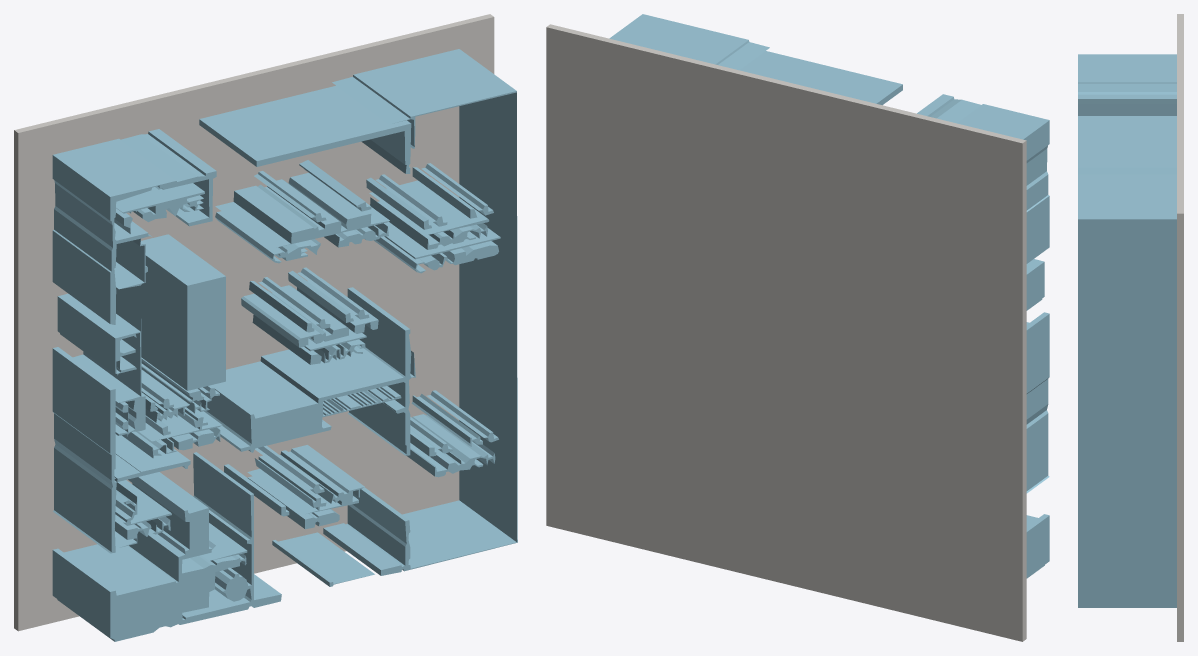
3 views of the same model, side by side, from view 1: azimuth 30°, elevation 25°; view 2: azimuth 150°, elevation 25°; view 3: azimuth 270°, elevation 25° (orthographic). The views are drawn at different scales.
Visible parts, largest first — view 1: world; view 2: world; view 3: world.
Boxes of the visible parts, x1=… form: world: x1=14, y1=14, x2=517, y2=641; world: x1=546, y1=14, x2=1049, y2=641; world: x1=1078, y1=14, x2=1183, y2=641.
Size of the model in its own units: 10.23 by 10.23 by 2.29.
